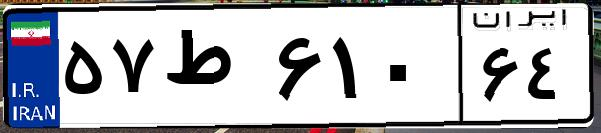0: (385, 28, 445, 110)
1: (330, 28, 385, 110)
4: (525, 38, 570, 115)
5: (57, 26, 110, 100)
6: (270, 28, 330, 110), (475, 38, 525, 113)
7: (110, 28, 158, 98)
ط: (158, 20, 270, 120)
